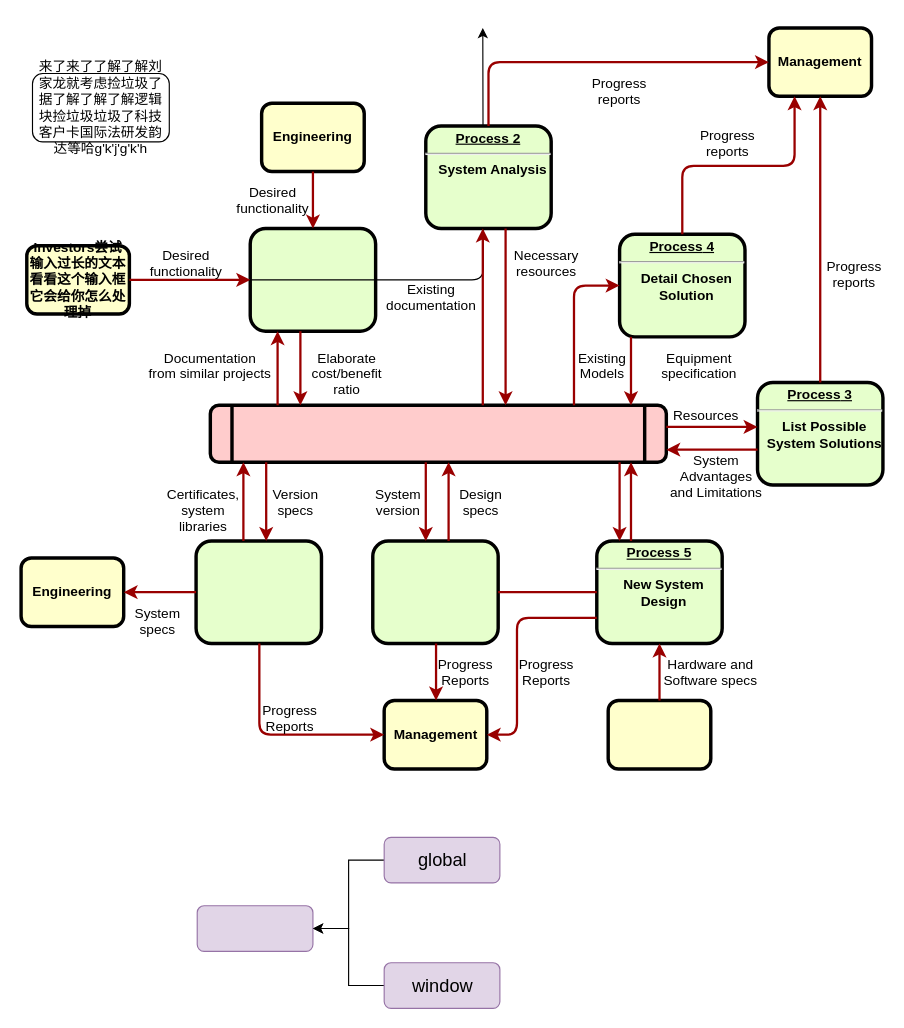
Some shapes in this 904 by 1028 pixel diagram are drawn without their labels. Each missing label, with the centre of its shape:
"ON-DEMAND SYSTEM DEVELOPMENT" goes at (x=437, y=433).
"Process 1 System Study Preparation" goes at (x=312, y=279).
"Process 6 New System Construction" goes at (x=258, y=592).
"Process 7 New System Startup and Testing" goes at (x=434, y=592).
"self" goes at (x=254, y=928).
"Vendors" goes at (x=659, y=734).
